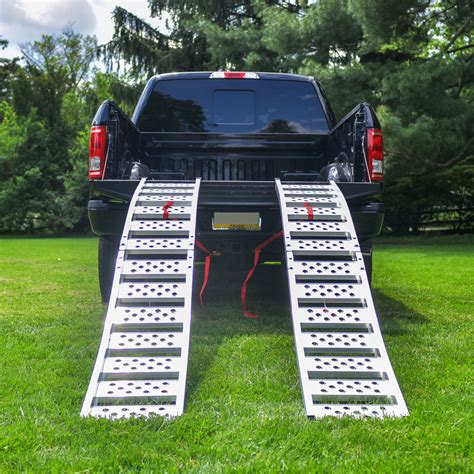Yard Ramp: (77, 179, 414, 425)
